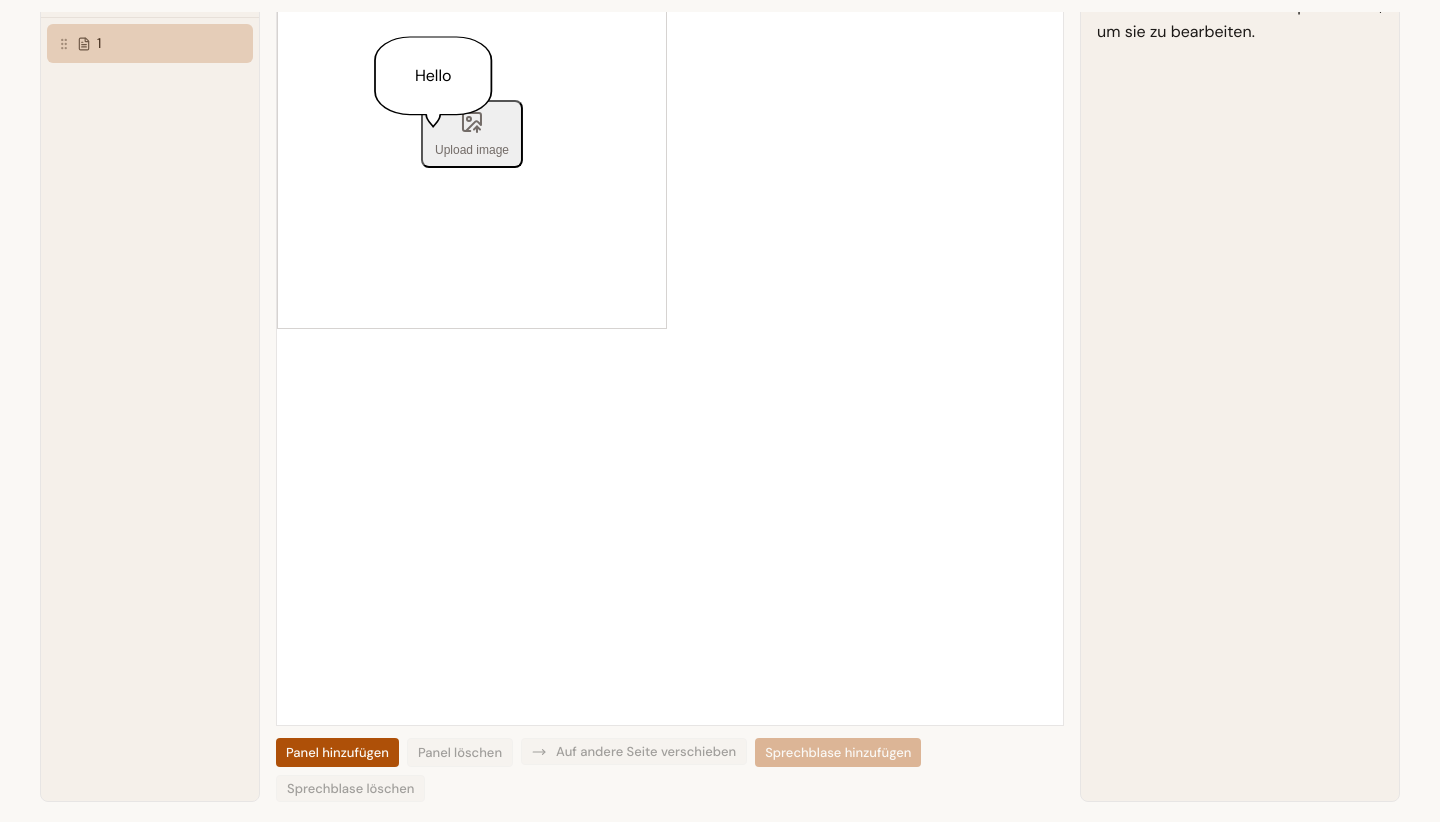
Scenario: ComicBookEditor (Session 2 C6 full editor) › Add Panel auto-selects the new panel (Add-Bubble enables)
The width and height of the screenshot is (1440, 822).
(page scrolled)
Expected: the button with test id "comic-book-editor-add-bubble" is disabled, x1=755 y1=738 x2=922 y2=767
Step 1. Click the button with test id "comic-book-editor-add-panel" → (338,753), box x1=276 y1=738 x2=399 y2=767
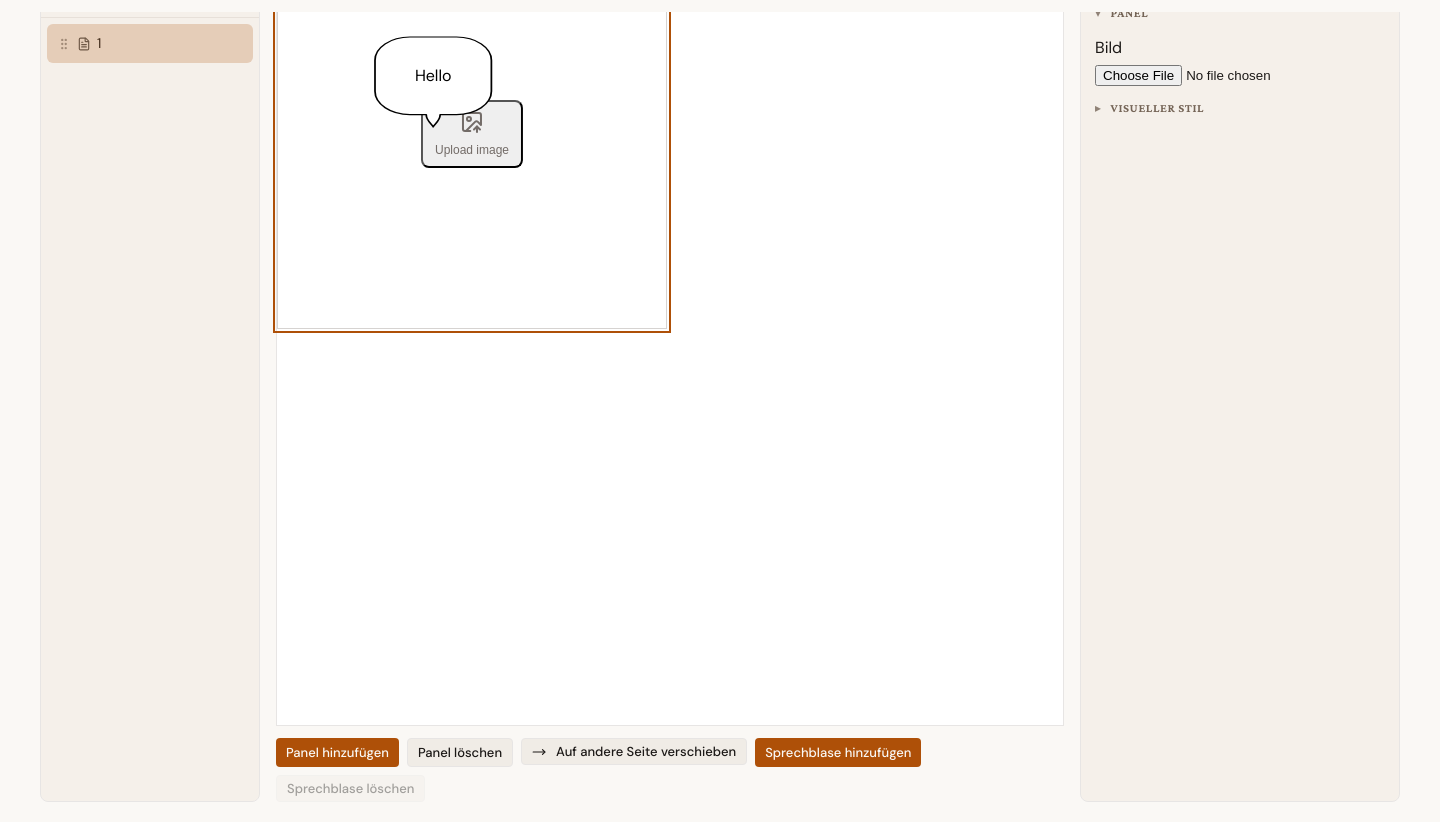
Expected: the button with test id "comic-book-editor-add-bubble" is enabled, x1=755 y1=738 x2=922 y2=767
